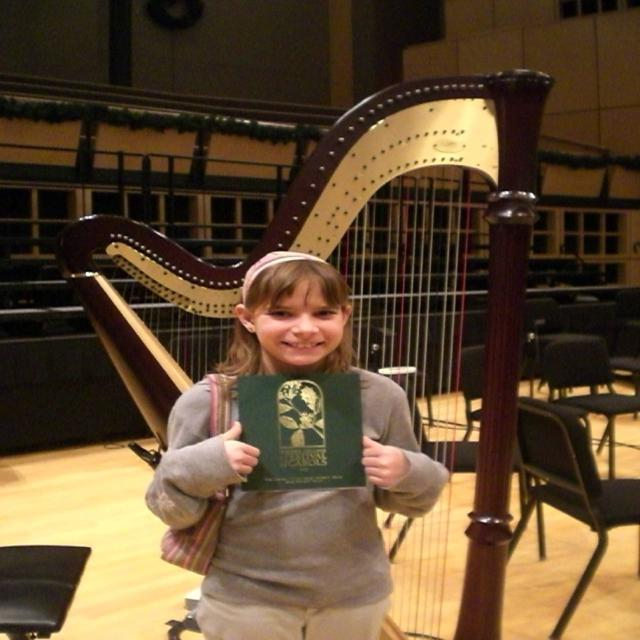harp: (55, 62, 566, 640)
